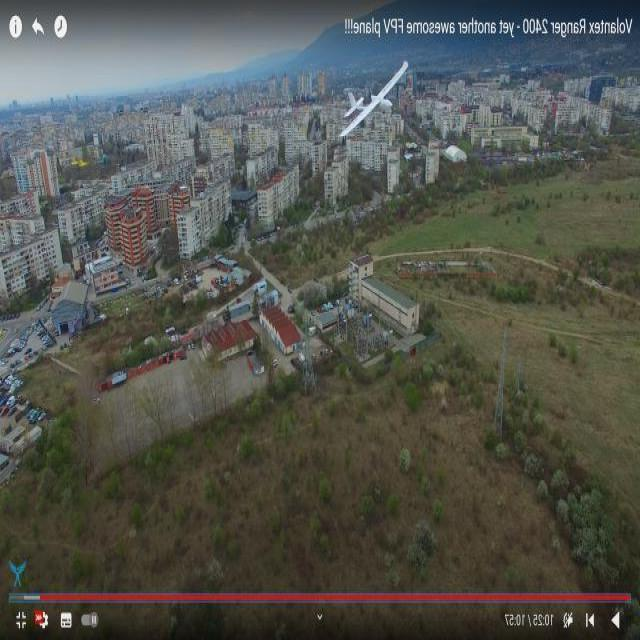iha: (352, 23, 396, 54)
